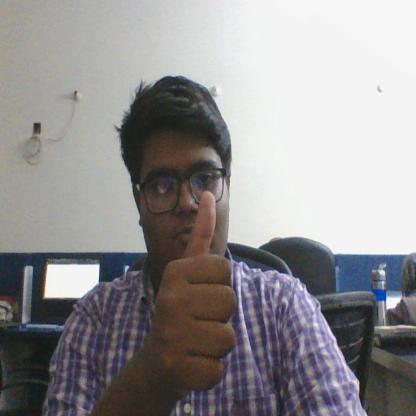thumbs-up: (154, 190, 243, 392)
